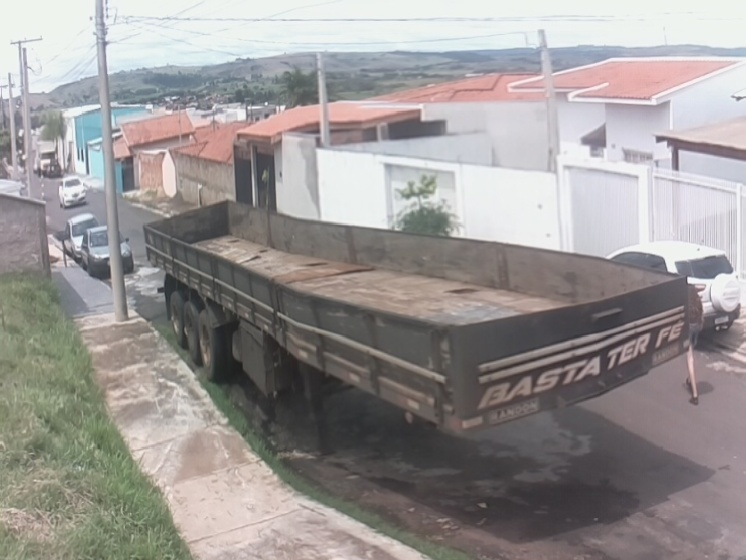person: (678, 282, 703, 407)
